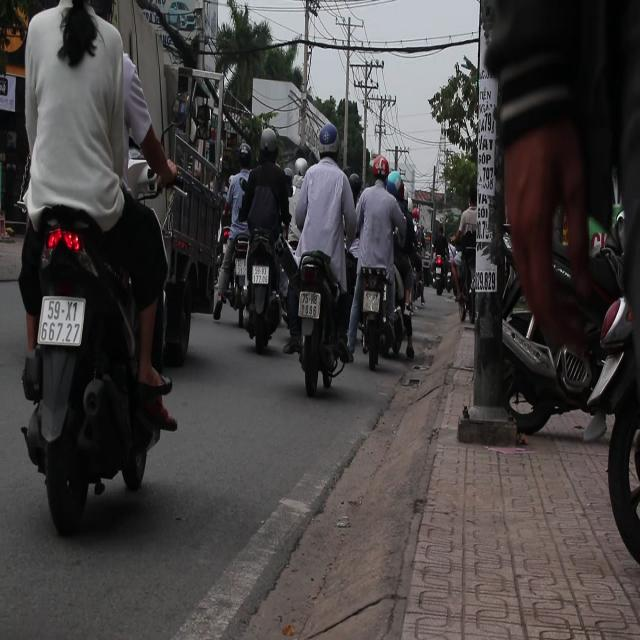motorbike: (29, 228, 168, 528), (294, 241, 342, 402), (351, 260, 406, 374), (244, 224, 280, 364), (212, 227, 251, 330), (430, 228, 452, 298)
